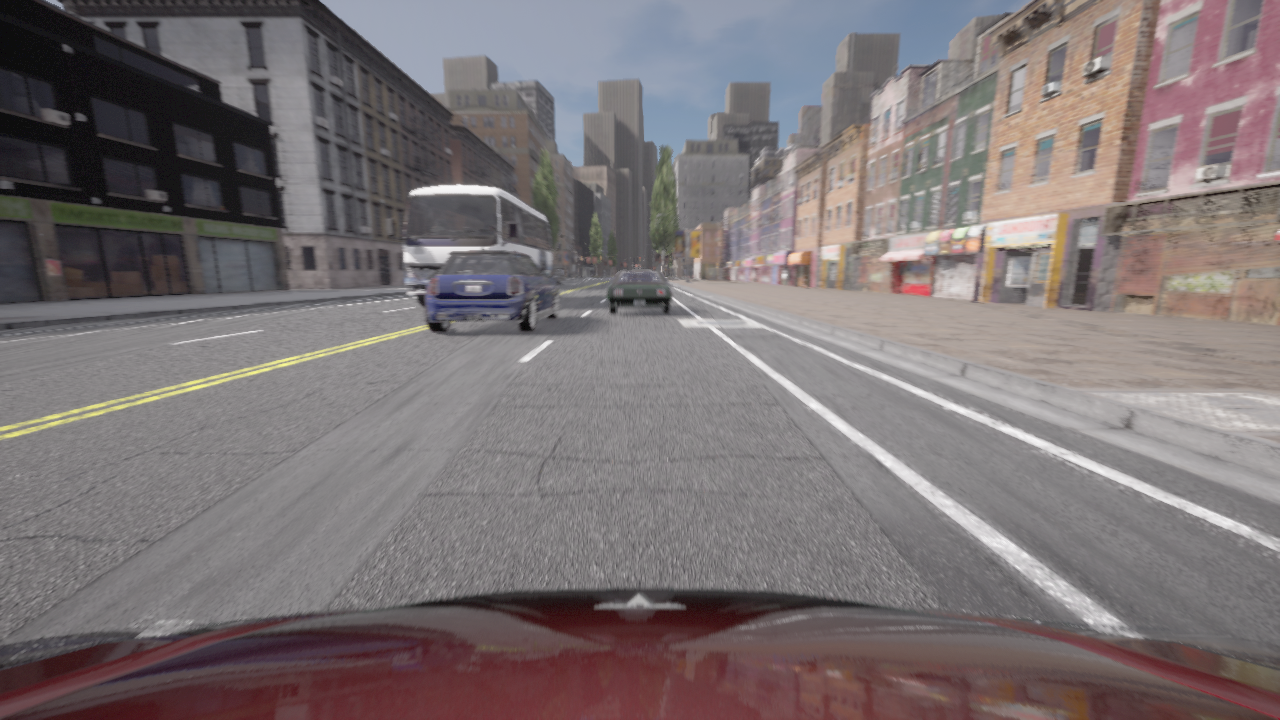cyclist: (0, 588, 1279, 719), (386, 185, 552, 307), (425, 246, 559, 332), (607, 271, 671, 313), (553, 271, 563, 286), (632, 268, 646, 270)
